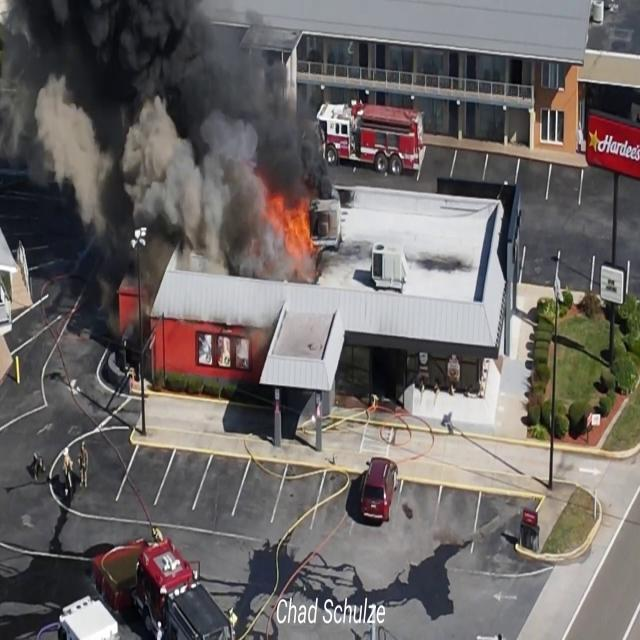Fire: (264, 190, 320, 274)
Smoke: (1, 0, 336, 270)
